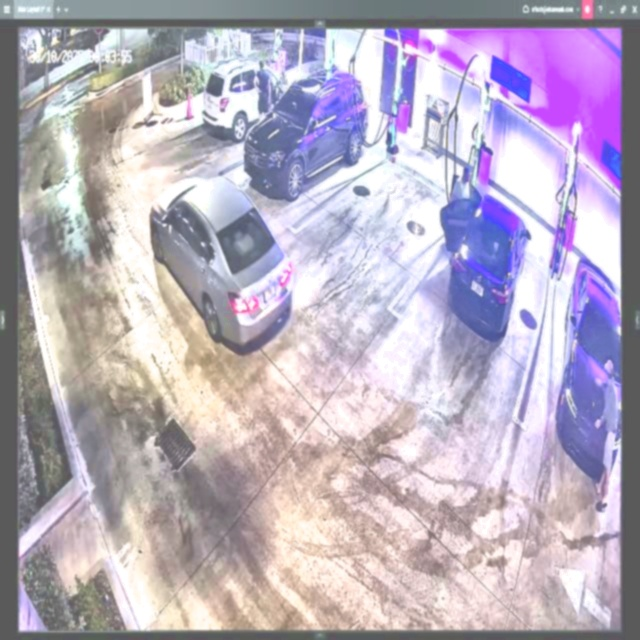Car: (152, 165, 293, 350), (245, 71, 368, 192), (447, 171, 532, 338)
